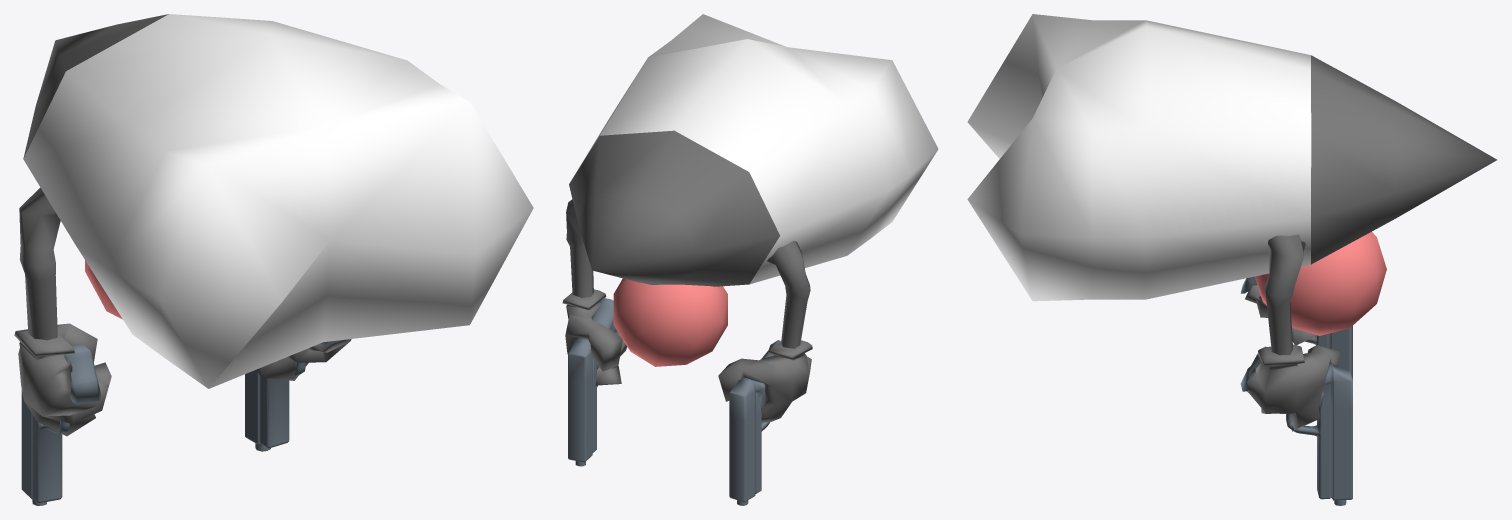
Rendered from Duke_posed.dae.
The picture shows the model from 3 angles, left to right: view 1: azimuth 30°, elevation 25°; view 2: azimuth 150°, elevation 25°; view 3: azimuth 270°, elevation 25°; orthographic projection. The views are drawn at different scales.
Parts seen in each view (by area): view 1: NoNameDukeBody, NoNamegun, NoNameDukeHeadA, NoNameHand; view 2: NoNameDukeBody, NoNameDukeHeadA, NoNameDukeNose, NoNamegun, NoNameHand; view 3: NoNameDukeBody, NoNameDukeHeadA, NoNameDukeNose, NoNamegun, NoNameHand.
Part boxes in pixels (left/top/right/bottom): NoNameDukeBody: left=23, top=14, right=533, bottom=388; NoNamegun: left=21, top=340, right=343, bottom=505; NoNameDukeHeadA: left=19, top=14, right=168, bottom=340; NoNameHand: left=14, top=323, right=351, bottom=436; NoNameDukeBody: left=573, top=14, right=938, bottom=284; NoNameDukeHeadA: left=566, top=130, right=810, bottom=348; NoNameDukeNose: left=613, top=278, right=727, bottom=366; NoNamegun: left=568, top=298, right=781, bottom=505; NoNameHand: left=562, top=289, right=812, bottom=422; NoNameDukeBody: left=967, top=14, right=1311, bottom=301; NoNameDukeHeadA: left=1264, top=55, right=1496, bottom=355; NoNameDukeNose: left=1255, top=231, right=1386, bottom=335; NoNamegun: left=1240, top=276, right=1352, bottom=505; NoNameHand: left=1245, top=285, right=1340, bottom=431.
Bounding box in the file's own units: 1.26 × 1.81 × 1.63.
